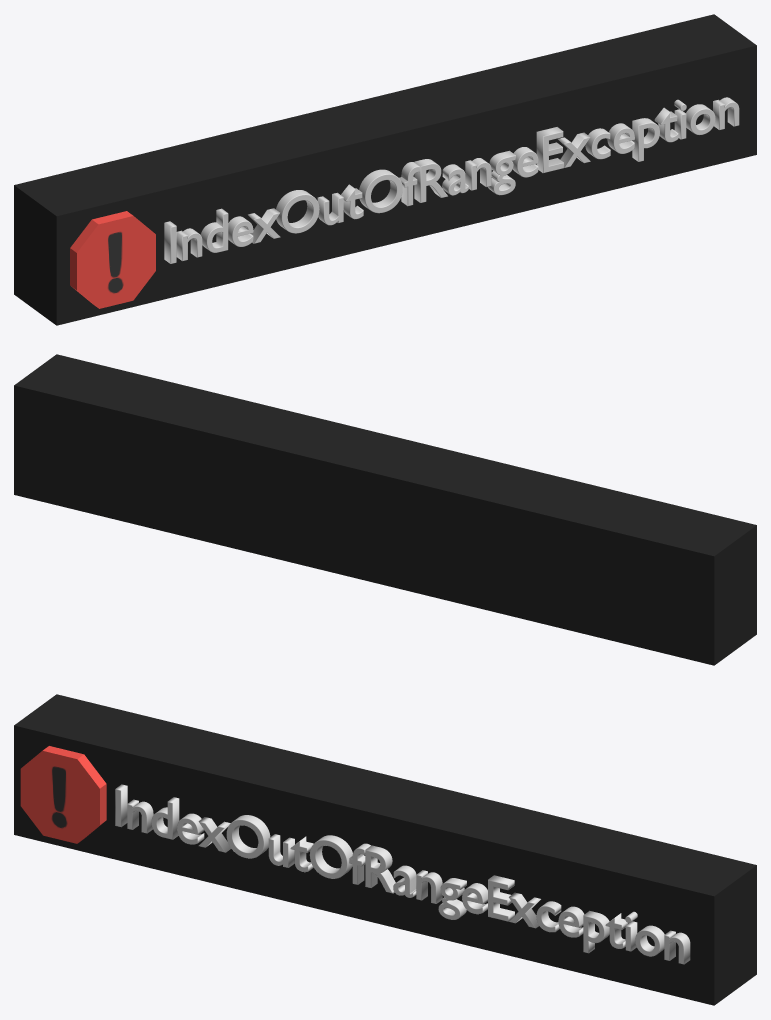
File: IndexOutOfRangeException.fbx
The picture shows the model from 3 angles, top to bottom: view 1: azimuth 30°, elevation 25°; view 2: azimuth 150°, elevation 25°; view 3: azimuth 330°, elevation 25°; orthographic projection.
Parts seen in each view (by area): view 1: nooo1.002, IndexOutOfRangeException; view 2: nooo1.002; view 3: nooo1.002, IndexOutOfRangeException.
Part boxes in pixels (box(x1,y1,x2,y2)): nooo1.002: box(14, 14, 756, 325); IndexOutOfRangeException: box(164, 97, 739, 263); nooo1.002: box(14, 354, 756, 665); nooo1.002: box(14, 694, 756, 1005); IndexOutOfRangeException: box(115, 784, 690, 964).
Size of the model in its own units: 2646 by 395 by 323.
